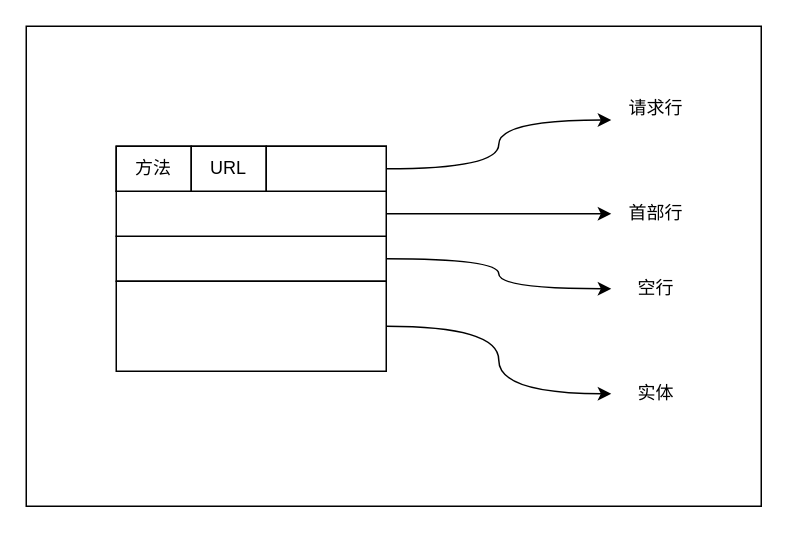
The diagram is 788 pixels wide and 533 high, and some of its shapes have lost their labels. The centre of each missing label's shape, as x and y in pixels:
版本: the point at 325,168
首部字段名：首部字段值: the point at 250,213
